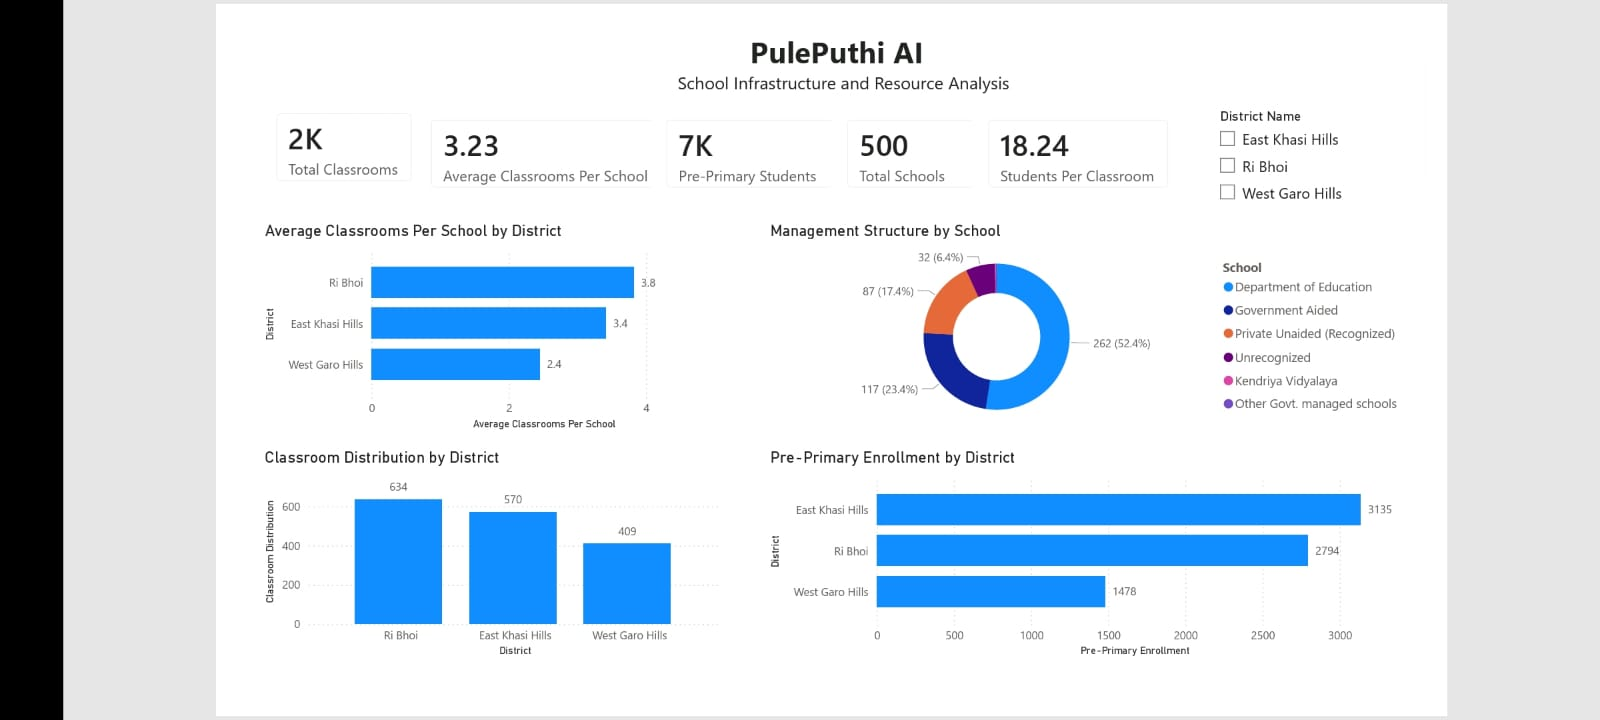

The dashboard page shown, as its layout file describes it:
{"tool":"powerbi","page":{"name":"Infrastructure Analysis","canvas":[1280,720],"ordinal":1},"visuals":[{"type":"textbox","box":[0,0,937,84],"z":0},{"type":"cardVisual","fields":{"Data":["meghalaya.Total Classrooms"]},"box":[24,77,180,107],"z":1000},{"type":"cardVisual","fields":{"Data":["meghalaya.Avg Classrooms Per School"]},"box":[191,84,286,107],"z":2000},{"type":"cardVisual","fields":{"Data":["meghalaya.Pre-Primary Students"]},"box":[445,84,213,107],"z":3000},{"type":"cardVisual","fields":{"Data":["meghalaya.Total schools"]},"box":[640,84,179,107],"z":4000},{"type":"donutChart","fields":{"Category":["meghalaya.management"],"Y":["CountNonNull(meghalaya.school_name)"]},"box":[568.6,210.5,695.4,230.2],"z":5000},{"type":"clusteredColumnChart","fields":{"Category":["meghalaya.district_name"],"Y":["Sum(meghalaya.class_rooms)"]},"box":[24,455,502,230],"z":6000},{"type":"clusteredBarChart","fields":{"Category":["meghalaya.district_name"],"Y":["meghalaya.Pre-Primary Students"]},"box":[569,455,695,230],"z":7000},{"type":"slicer","fields":{"Values":["meghalaya.district_name"]},"box":[1046,84,193,122],"z":8000},{"type":"clusteredBarChart","fields":{"Category":["meghalaya.district_name"],"Y":["meghalaya.Classrooms Per Schools"]},"box":[24.1,210.2,502,229.7],"z":9000},{"type":"cardVisual","fields":{"Data":["meghalaya.Students Per Classroom"]},"box":[792,84,228,107],"z":10000}]}

Visuals, with their boxes on the page's 1280x720 design canvas (x1, y1, x2, y2). These are canvas units, not pixel positions in the 1600x720 screenshot, which may show the page scaled, cropped or inside an application window:
textbox: bbox(0, 0, 937, 84)
cardVisual - meghalaya.Total Classrooms: bbox(24, 77, 204, 184)
cardVisual - meghalaya.Avg Classrooms Per School: bbox(191, 84, 477, 191)
cardVisual - meghalaya.Pre-Primary Students: bbox(445, 84, 658, 191)
cardVisual - meghalaya.Total schools: bbox(640, 84, 819, 191)
donutChart - meghalaya.management x CountNonNull(meghalaya.school_name): bbox(569, 210, 1264, 441)
clusteredColumnChart - meghalaya.district_name x Sum(meghalaya.class_rooms): bbox(24, 455, 526, 685)
clusteredBarChart - meghalaya.district_name x meghalaya.Pre-Primary Students: bbox(569, 455, 1264, 685)
slicer - meghalaya.district_name: bbox(1046, 84, 1239, 206)
clusteredBarChart - meghalaya.district_name x meghalaya.Classrooms Per Schools: bbox(24, 210, 526, 440)
cardVisual - meghalaya.Students Per Classroom: bbox(792, 84, 1020, 191)
